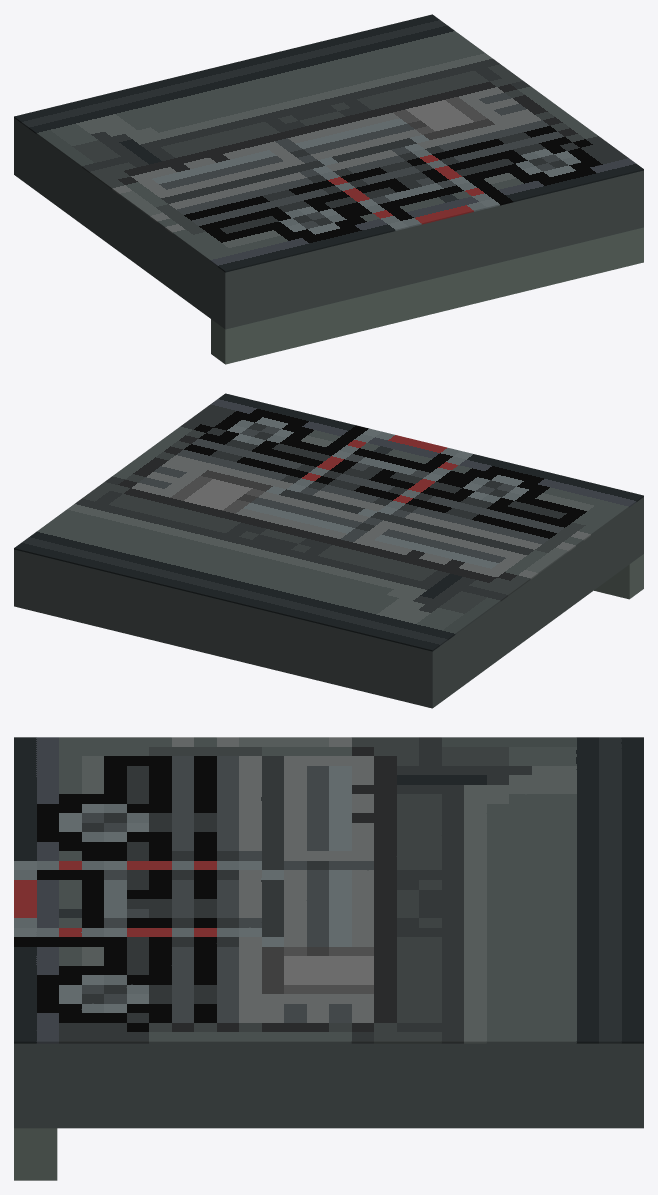
Rendered from CMU3DInteriorVehicleTankExterior1.glb.
3 renders of one model, top to bottom at view 1: azimuth 30°, elevation 25°; view 2: azimuth 150°, elevation 25°; view 3: azimuth 270°, elevation 25°, orthographic. The views are drawn at different scales.
Parts seen in each view (by area): view 1: overhead armor source finish, overhead armor, inner roof rib; view 2: overhead armor source finish, overhead armor, inner roof rib; view 3: overhead armor source finish, overhead armor, inner roof rib.
Boxes of the visible parts, x1,y1,x2,y2 form: overhead armor source finish: [14, 14, 643, 272]; overhead armor: [14, 118, 643, 329]; inner roof rib: [211, 227, 643, 364]; overhead armor source finish: [14, 393, 643, 651]; overhead armor: [14, 497, 643, 708]; inner roof rib: [594, 554, 643, 599]; overhead armor source finish: [14, 737, 643, 1043]; overhead armor: [14, 1043, 643, 1128]; inner roof rib: [14, 1128, 57, 1180].
Size of the model in its own units: 1 by 0.213 by 0.875.
3 materials, 1 textured.
